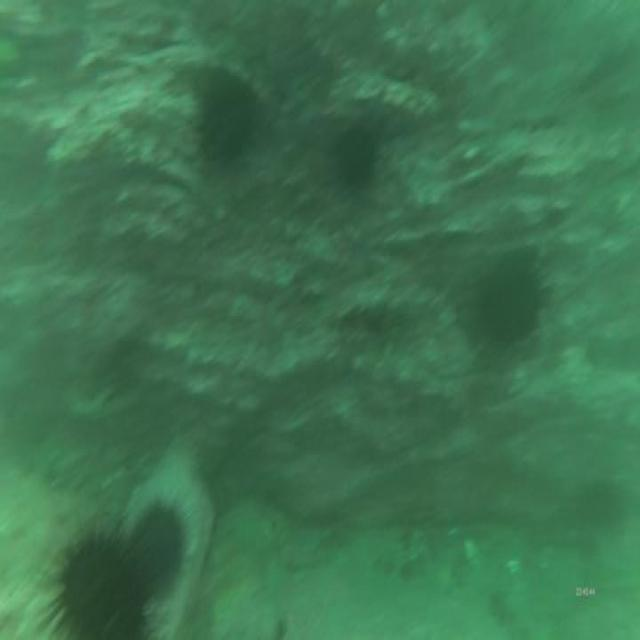echinus: (42, 513, 152, 640), (191, 63, 264, 182), (473, 250, 546, 354), (130, 495, 188, 605), (326, 114, 386, 200)
